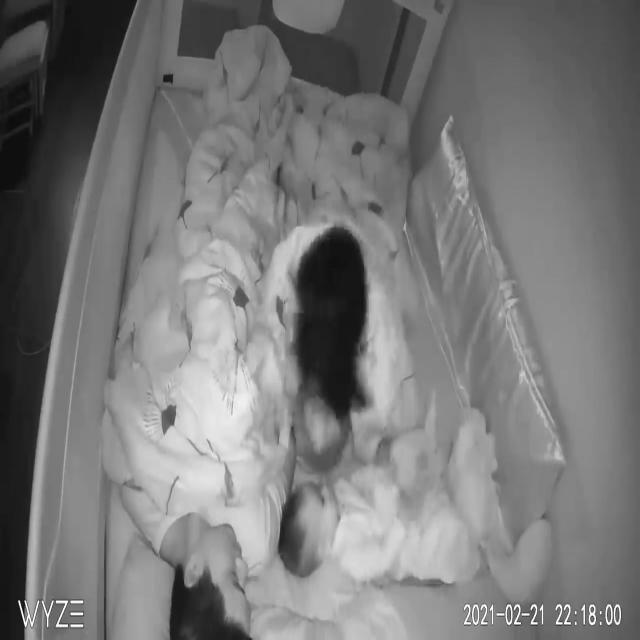baby: (278, 450, 476, 583)
